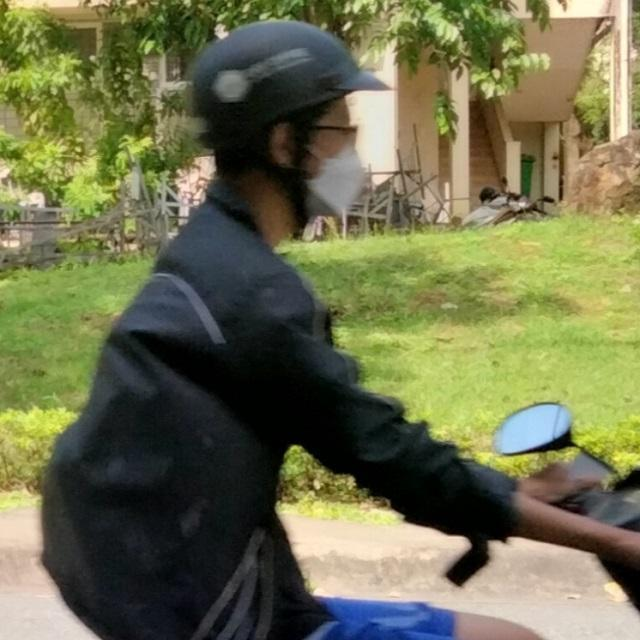Helmet: (194, 23, 386, 236)
